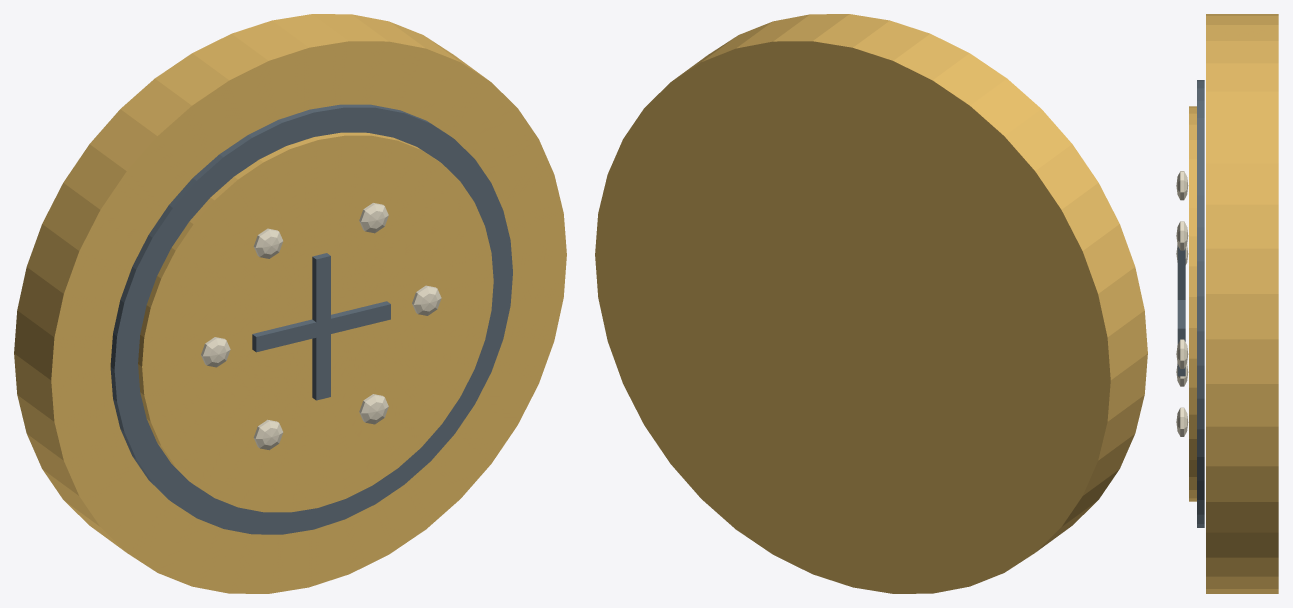
File: hon.glb
3 views of the same model, side by side, from view 1: azimuth 30°, elevation 25°; view 2: azimuth 150°, elevation 25°; view 3: azimuth 270°, elevation 25° (orthographic). The views are drawn at different scales.
Parts seen in each view (by area): view 1: Hon; view 2: Hon; view 3: Hon.
Boxes of the visible parts, x1,y1,x2,y2 form: Hon: (14,14,566,593); Hon: (595,14,1147,593); Hon: (1176,14,1278,593).
Bounding box in the file's own units: 0.88 × 0.88 × 0.155.
